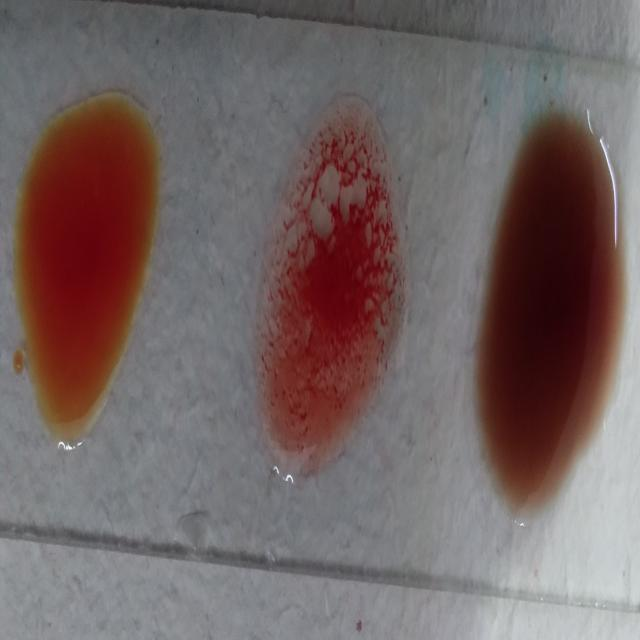D: (259, 112, 397, 478)
